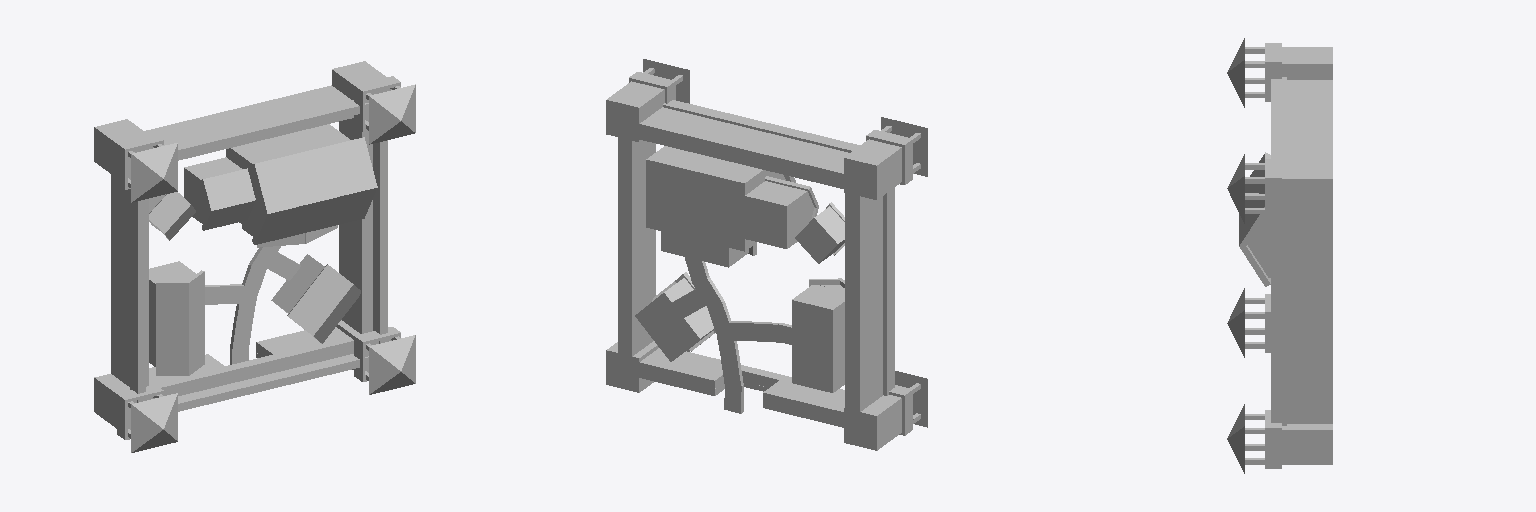
Rendered from front-r.obj.
3 renders of one model, left to right at view 1: azimuth 30°, elevation 25°; view 2: azimuth 150°, elevation 25°; view 3: azimuth 270°, elevation 25°, orthographic.
Parts seen in each view (by area): view 1: Object.30, Object.29, Object.60, Object.59, Object.37, Object.57, Object.1, Object.15, Object.22, Object.8, Object.34, Object.56 (+15 smaller); view 2: Object.30, Object.57, Object.35, Object.29, Object.53, Object.31, Object.20, Object.6, Object.27, Object.39, Object.13, Object.61 (+9 smaller); view 3: Object.30, Object.29, Object.27, Object.13, Object.20, Object.60, Object.28, Object.14, Object.21, Object.8, Object.15, Object.1 (+1 smaller).
Boxes of the visible parts, box(x1,y1,x2,y2) form: Object.30: box(111, 85, 372, 395); Object.29: box(130, 100, 387, 411); Object.60: box(252, 137, 377, 213); Object.59: box(252, 188, 376, 244); Object.37: box(156, 282, 188, 375); Object.57: box(226, 124, 349, 233); Object.1: box(131, 393, 177, 452); Object.15: box(131, 143, 177, 202); Object.22: box(369, 84, 415, 144); Object.8: box(369, 335, 415, 394); Object.34: box(287, 264, 353, 335); Object.56: box(202, 168, 255, 210); Object.30: box(618, 107, 882, 427); Object.57: box(646, 146, 778, 251); Object.35: box(792, 285, 844, 392); Object.29: box(663, 100, 894, 395); Object.53: box(745, 181, 808, 248); Object.31: box(635, 278, 714, 361); Object.20: box(844, 139, 901, 199); Object.6: box(844, 395, 901, 450); Object.27: box(606, 81, 664, 141); Object.39: box(795, 206, 844, 263); Object.13: box(606, 341, 658, 392); Object.61: box(661, 224, 748, 267); Object.30: box(1287, 80, 1332, 423); Object.29: box(1271, 77, 1286, 425); Object.27: box(1282, 163, 1332, 213); Object.13: box(1282, 424, 1332, 464); Object.20: box(1282, 47, 1332, 79); Object.60: box(1239, 152, 1270, 249); Object.28: box(1265, 159, 1281, 217); Object.14: box(1265, 410, 1281, 468); Object.21: box(1265, 43, 1281, 101); Object.8: box(1227, 404, 1244, 473); Object.15: box(1227, 38, 1244, 107); Object.1: box(1227, 288, 1244, 357).
Size of the model in its own units: 123 by 124 by 39.52.